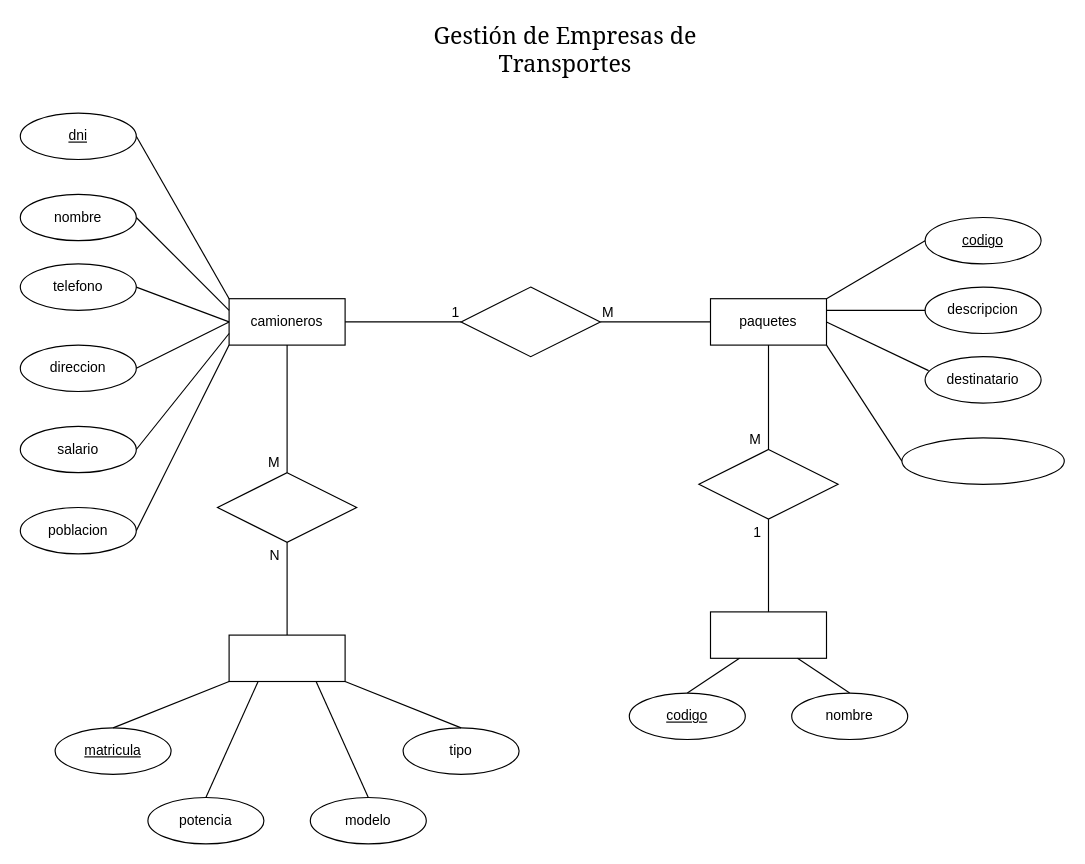
Image size: 1085x864. Some labels were removed from this diagram. Here are the shapes that lost their labels. From the top down, the centre of each, then its label:
(x=530, y=321): distribuir
(x=982, y=460): direccion_destinatario
(x=768, y=483): puede llegar
(x=286, y=507): conducir
(x=767, y=634): provincias
(x=286, y=658): camiones
